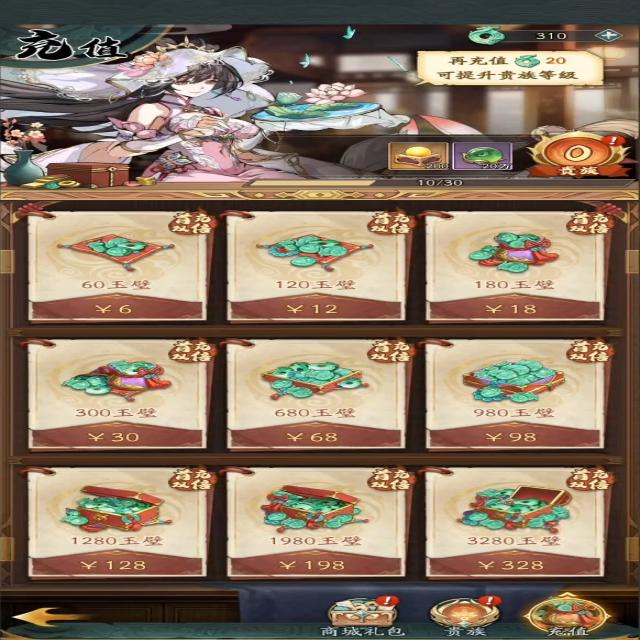hint-reddot: (476, 594, 508, 608), (599, 133, 627, 148), (374, 594, 400, 610)
operation-back: (8, 600, 96, 632)
